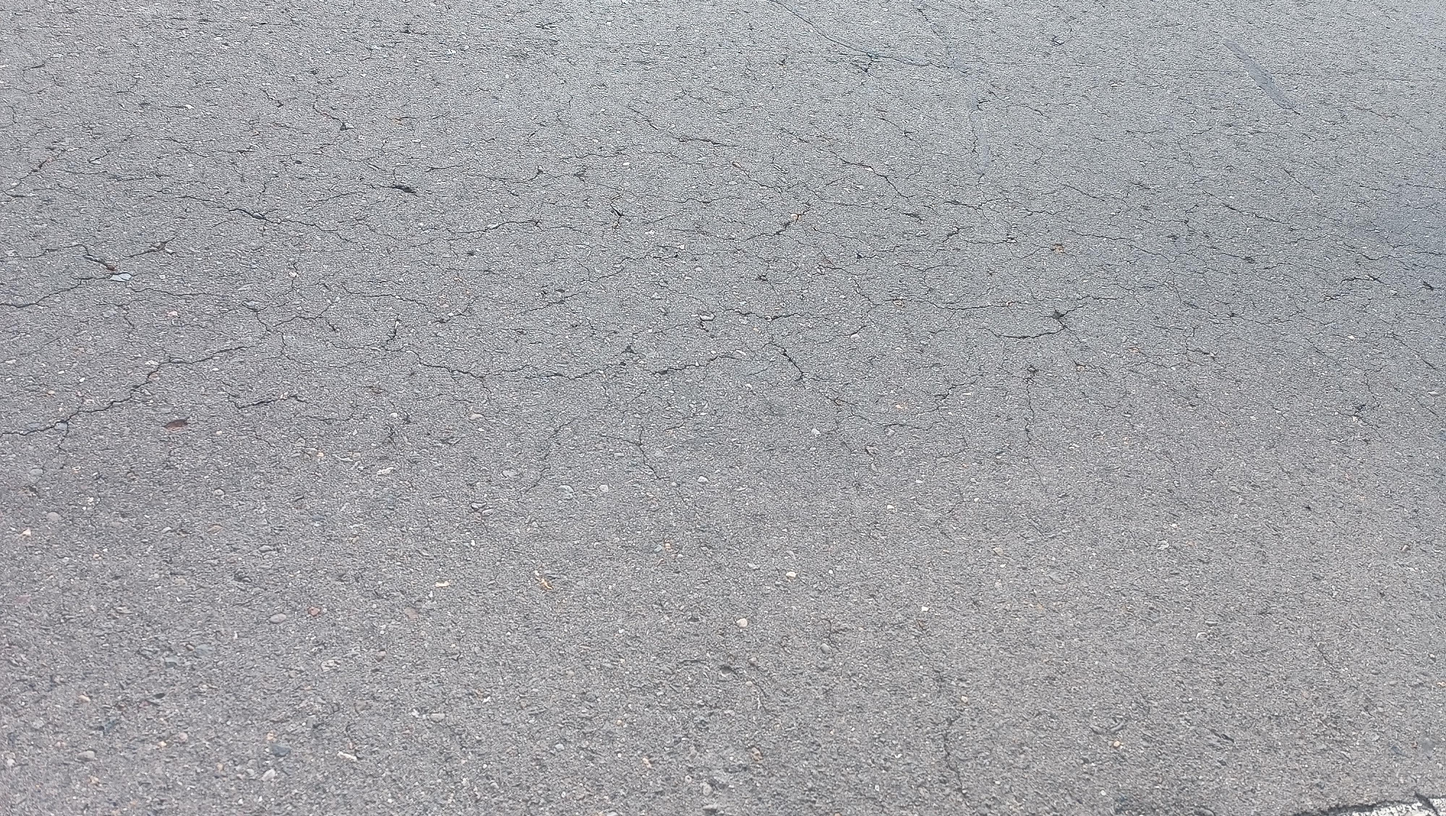PIEL DE COCODRILO: (0, 89, 1440, 549)
